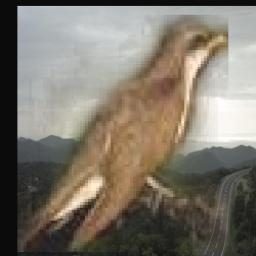Cuckoo: (17, 16, 228, 253)
